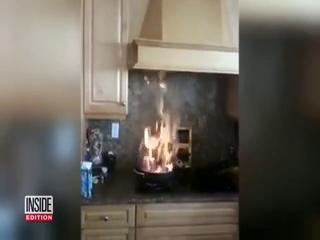Fire: (136, 88, 182, 177)
